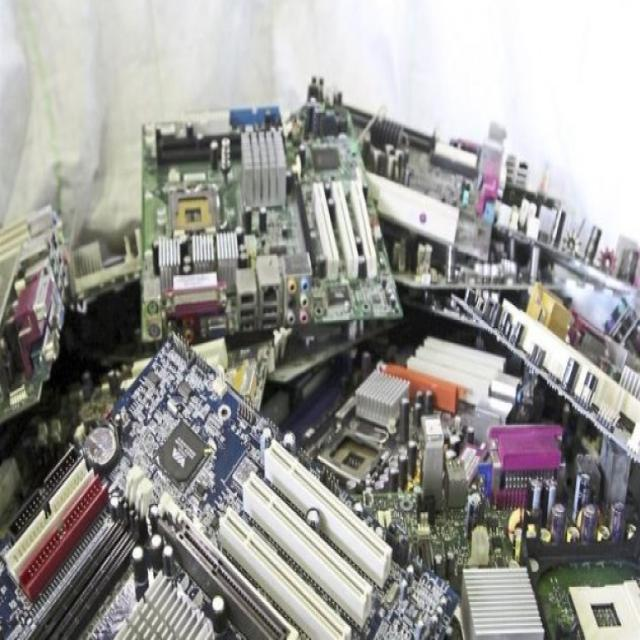Hazard: (0, 93, 640, 640), (175, 264, 526, 441)
